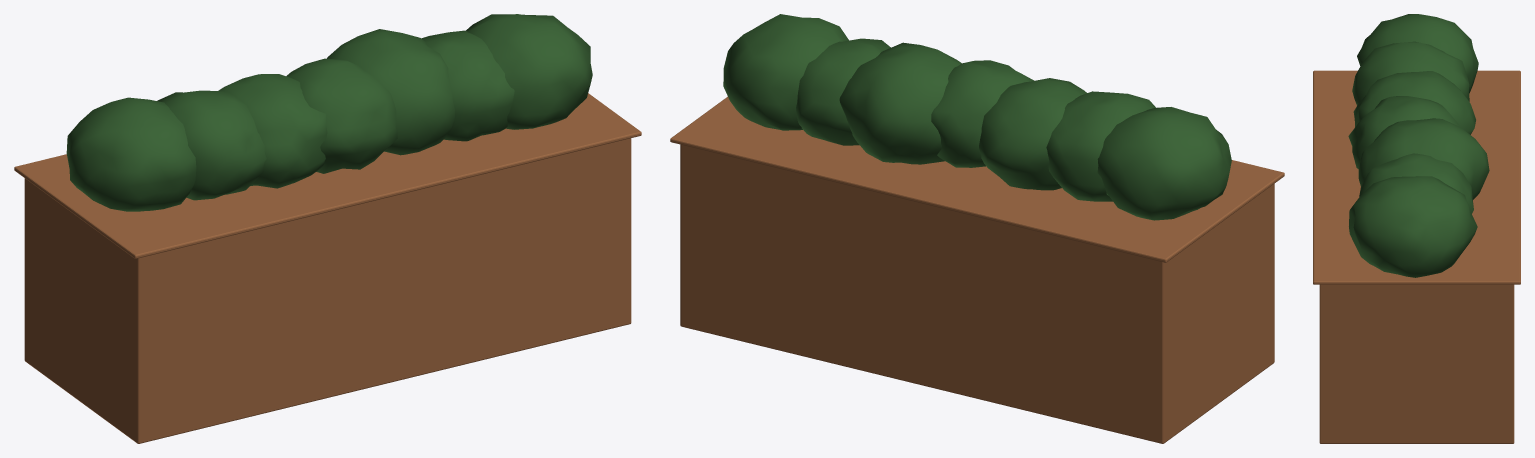
File: city-sidewalk-planter-box.glb
3 views of the same model, side by side, from view 1: azimuth 30°, elevation 25°; view 2: azimuth 150°, elevation 25°; view 3: azimuth 270°, elevation 25° (orthographic). The views are drawn at different scales.
Parts seen in each view (by area): view 1: Assembly | Weathering steel planter, Assembly | Clipped boxwood foliage; view 2: Assembly | Weathering steel planter, Assembly | Clipped boxwood foliage; view 3: Assembly | Weathering steel planter, Assembly | Clipped boxwood foliage.
Part boxes in pixels (box(x1,y1,x2,y2)): Assembly | Weathering steel planter: box(14, 93, 641, 443); Assembly | Clipped boxwood foliage: box(66, 14, 592, 211); Assembly | Weathering steel planter: box(670, 96, 1284, 443); Assembly | Clipped boxwood foliage: box(723, 14, 1231, 220); Assembly | Weathering steel planter: box(1313, 70, 1520, 443); Assembly | Clipped boxwood foliage: box(1348, 14, 1489, 277).
Size of the model in its own units: 1.54 by 0.8287 by 0.64.
